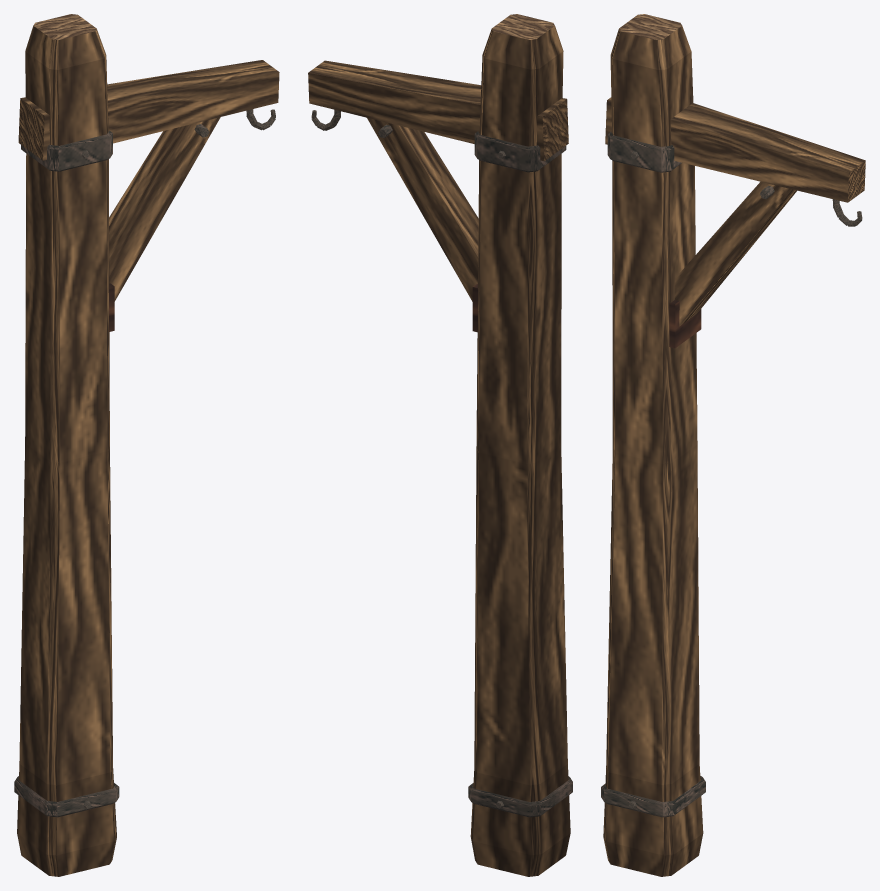
The model's file is Poste.glb.
3 views of the same model, side by side, from view 1: azimuth 30°, elevation 25°; view 2: azimuth 150°, elevation 25°; view 3: azimuth 330°, elevation 25° (orthographic).
Parts seen in each view (by area): view 1: Poste, Braço de madeira, Escora, Abraçadeiras; view 2: Poste, Braço de madeira, Escora, Abraçadeiras; view 3: Poste, Braço de madeira, Escora, Abraçadeiras, Encaixe.
Part boxes in pixels (<box>): Poste: <box>17,14,116,876</box>; Braço de madeira: <box>18,60,279,160</box>; Escora: <box>109,117,220,301</box>; Abraçadeiras: <box>14,130,119,817</box>; Poste: <box>470,14,570,876</box>; Braço de madeira: <box>308,60,568,161</box>; Escora: <box>367,118,478,301</box>; Abraçadeiras: <box>468,131,572,817</box>; Poste: <box>603,14,703,876</box>; Braço de madeira: <box>605,97,865,202</box>; Escora: <box>674,181,796,326</box>; Abraçadeiras: <box>601,131,705,817</box>; Encaixe: <box>669,300,701,348</box>.
Size of the model in its own units: 0.8369 by 2.7 by 0.256.
4 materials, 4 textured.
